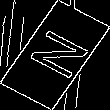N_SE: (18, 25, 92, 85)
